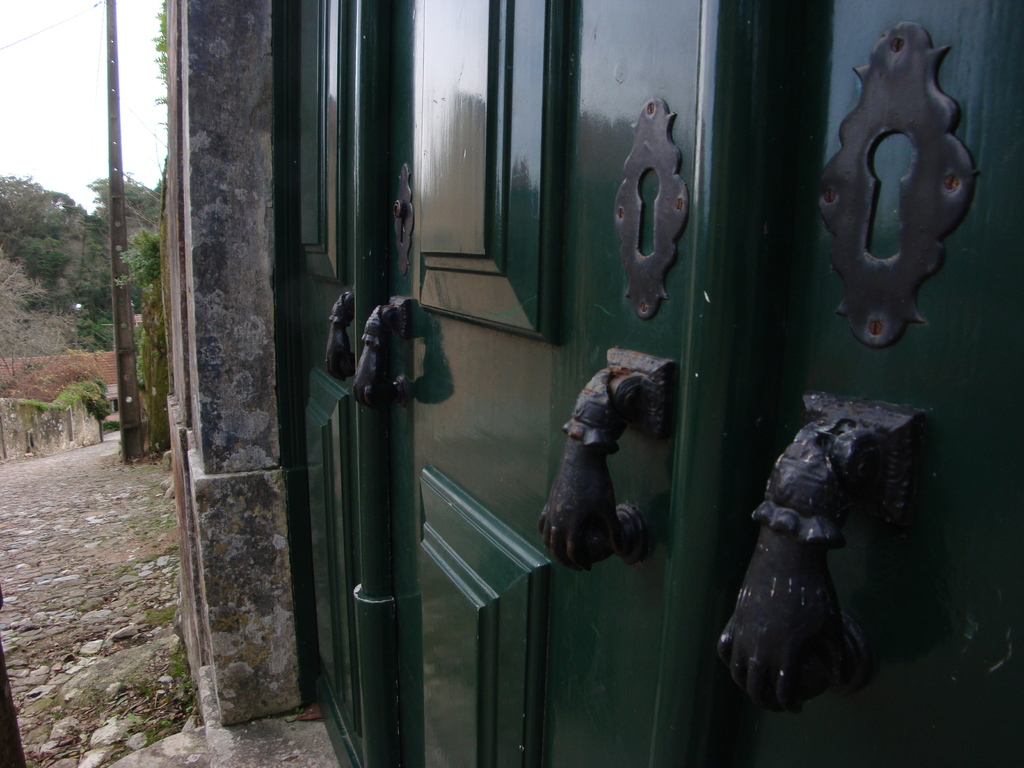door: (382, 36, 680, 768), (820, 91, 1024, 768), (278, 38, 369, 695)
handle: (754, 485, 871, 711), (548, 397, 634, 574), (355, 306, 414, 414), (322, 295, 354, 401)
